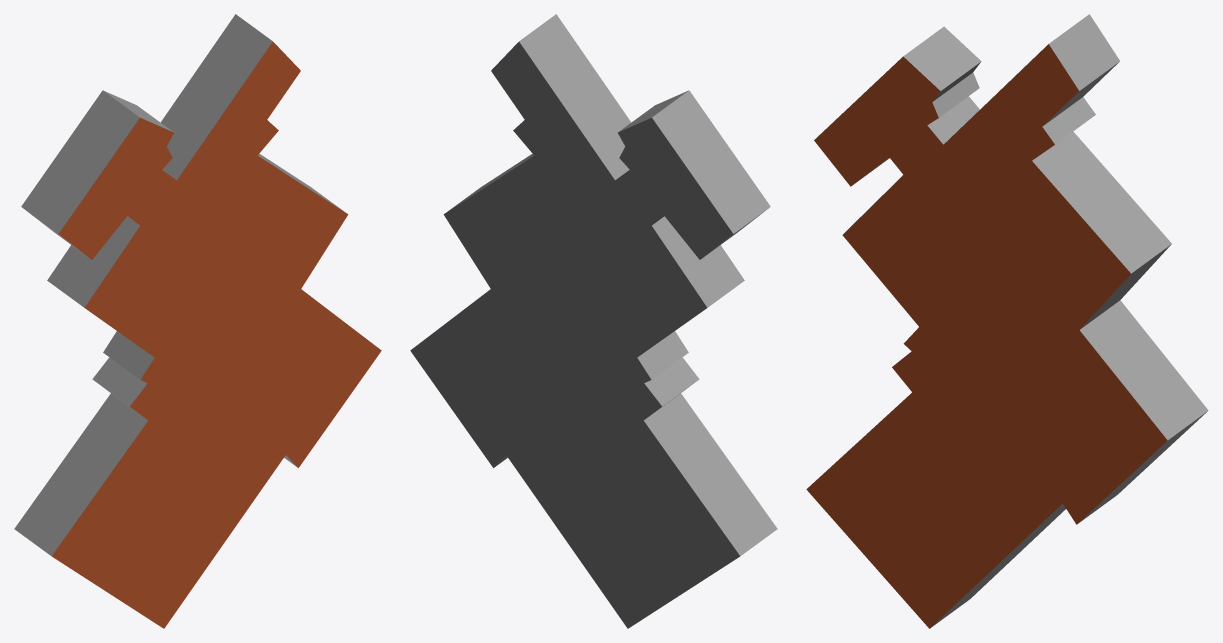
The model's file is construction_6825_assumed_A_Casa_h6m.obj.
3 views of the same model, side by side, from view 1: azimuth 30°, elevation 25°; view 2: azimuth 150°, elevation 25°; view 3: azimuth 330°, elevation 25° (orthographic). The views are drawn at different scales.
Parts seen in each view (by area): view 1: construction_6825_assumed_A_Casa; view 2: construction_6825_assumed_A_Casa; view 3: construction_6825_assumed_A_Casa.
Boxes of the visible parts, box(x1,y1,x2,y2) form: construction_6825_assumed_A_Casa: box(14, 14, 381, 628); construction_6825_assumed_A_Casa: box(410, 14, 777, 628); construction_6825_assumed_A_Casa: box(806, 14, 1208, 628).
Size of the model in its own units: 30.61 by 49.69 by 6.
